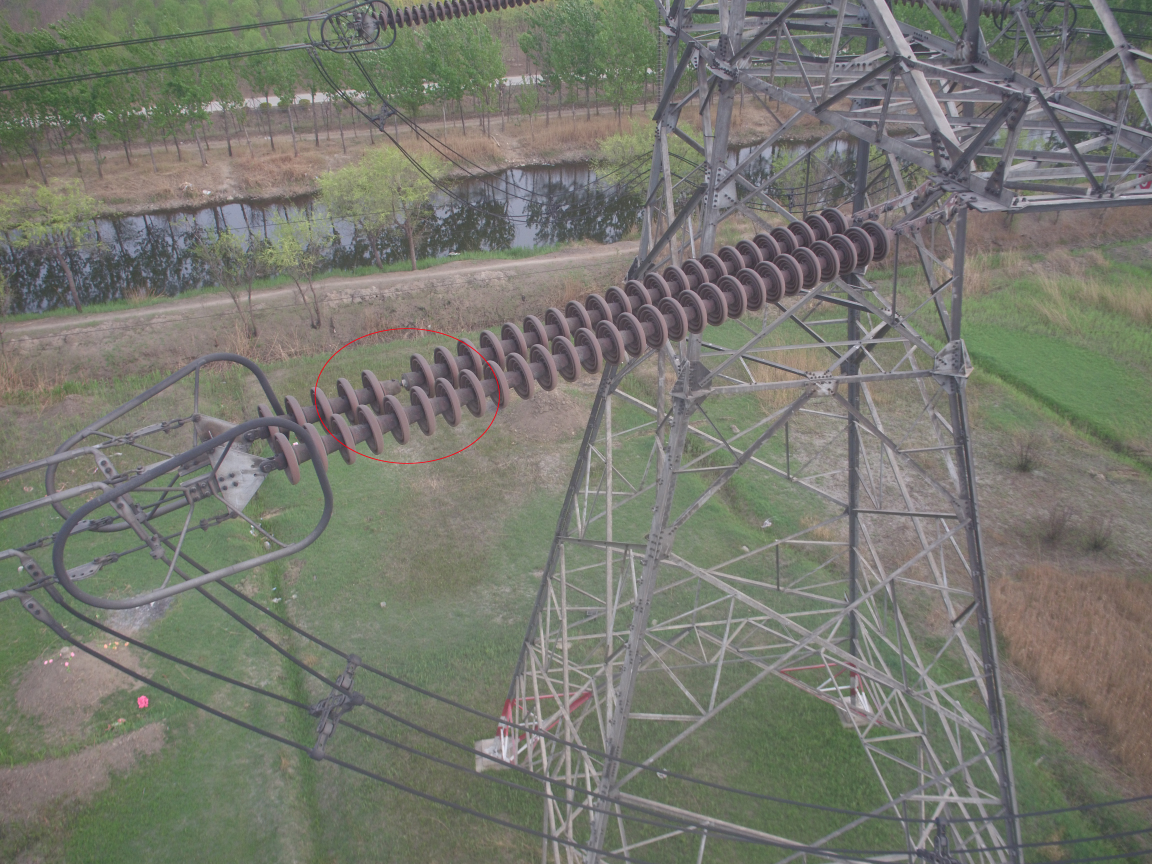insulator: (250, 201, 904, 491), (369, 1, 538, 38)
